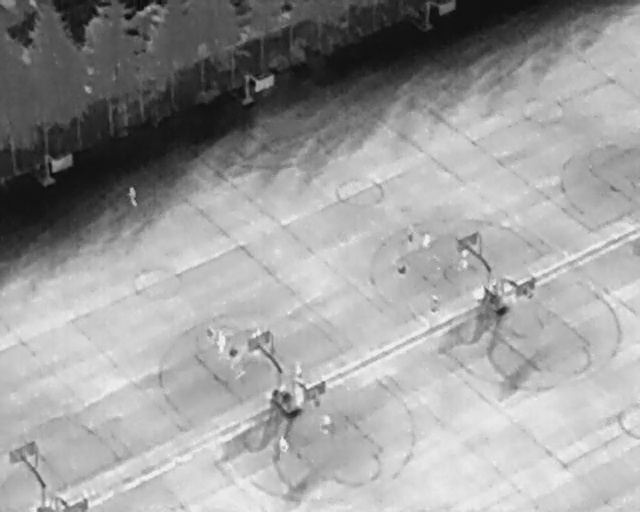Person: (318, 414, 333, 437), (427, 293, 441, 316), (215, 331, 227, 354), (126, 187, 138, 208), (455, 257, 469, 275), (421, 231, 433, 250), (278, 436, 289, 454), (405, 226, 415, 245), (206, 326, 216, 344), (293, 365, 304, 381), (229, 347, 238, 363), (396, 264, 407, 276)
